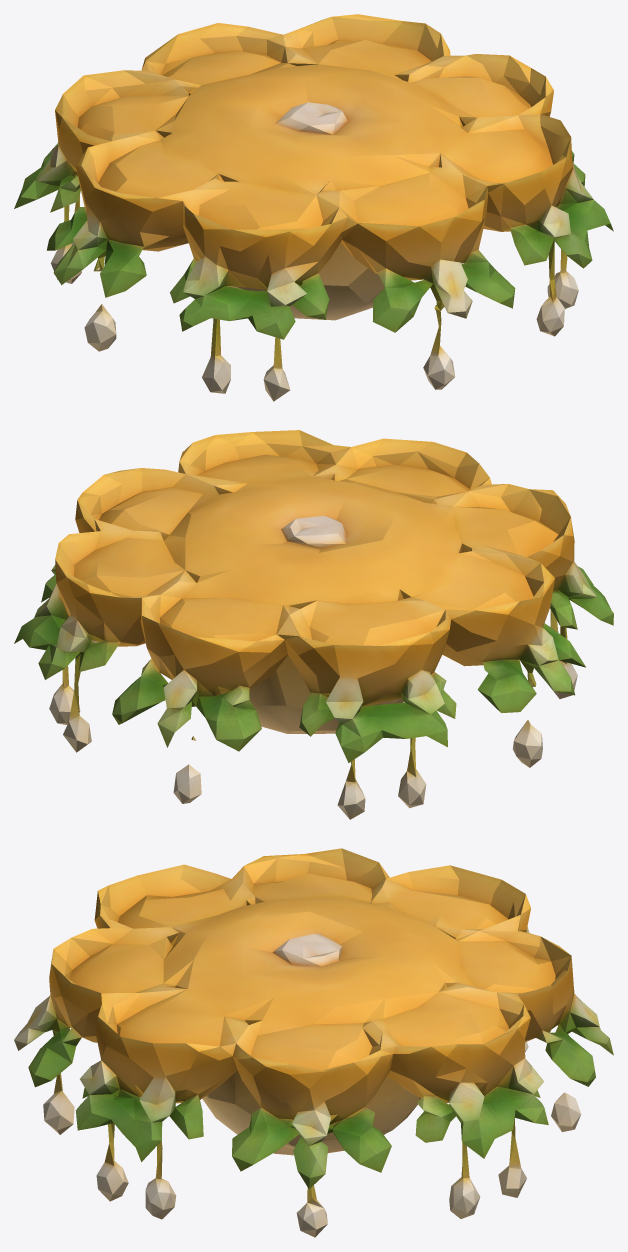
The picture shows the model from 3 angles, top to bottom: view 1: azimuth 30°, elevation 25°; view 2: azimuth 150°, elevation 25°; view 3: azimuth 270°, elevation 25°; orthographic projection.
Visible parts, largest first — view 1: model; view 2: model; view 3: model.
Boxes of the visible parts, x1,y1,x2,y2 form: model: (14, 14, 613, 401); model: (14, 430, 613, 819); model: (14, 848, 613, 1237).
Size of the model in its own units: 188 by 66.32 by 187.
Materials: 1 (1 with a texture image).
